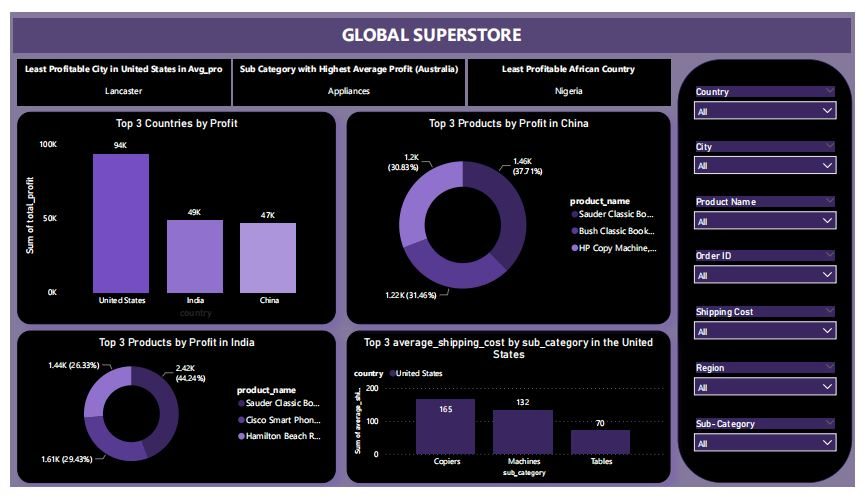

The dashboard page shown, as its layout file describes it:
{"tool":"powerbi","page":{"name":"Page 1","canvas":[1280,720],"ordinal":0},"visuals":[{"type":"shape","box":[1012.4,72.2,264.8,642.8],"z":0},{"type":"clusteredColumnChart","title":"Top 3 Countries by Profit","fields":{"Y":["Sum(Three countries that generated the highest total profit for Global 2014.total_profit)"],"Category":["Three countries that generated the highest total profit for Global 2014.country"]},"box":[9.9,151.5,482.8,322.8],"z":1000},{"type":"donutChart","title":"Top 3 Products by Profit in India","fields":{"Category":["Three Products with highest total profit for India.product_name","Three Products with highest total profit for India.country"],"Y":["Sum(Three Products with highest total profit for India.total_profit)"]},"box":[9.9,484.2,482.8,230.8],"z":2000},{"type":"columnChart","title":"Top 3 average_shipping_cost by sub_category in the United States","fields":{"Category":["The three subcategories with the highest average shipping cost in the United Sta.sub_category"],"Y":["Sum(The three subcategories with the highest average shipping cost in the United Sta.average_shipping_cost)"],"Series":["The three subcategories with the highest average shipping cost in the United Sta.country"]},"box":[509.7,484.2,491.3,230.8],"z":3000},{"type":"donutChart","title":"Top 3 Products by Profit in China","fields":{"Y":["Sum(Three Products with highest total profit for China.total_profit)"],"Category":["Three Products with highest total profit for China.product_name"]},"box":[509.7,151.5,491.3,322.8],"z":4000},{"type":"textbox","box":[4.2,9.9,1270.1,52.4],"z":5000},{"type":"textbox","box":[9.9,72.2,324.2,69.4],"z":6000},{"type":"textbox","box":[338.4,72.2,351.2,69.4],"z":7000},{"type":"textbox","box":[693.8,72.2,307.3,69.4],"z":8000},{"type":"slicer","fields":{"Values":["Orders.Country"]},"box":[1026.5,107.6,236.5,68],"z":9000},{"type":"slicer","fields":{"Values":["Orders.City"]},"box":[1026.5,191.2,236.5,68],"z":10000},{"type":"slicer","fields":{"Values":["Orders.Product Name"]},"box":[1026.5,274.7,236.5,68],"z":11000},{"type":"slicer","fields":{"Values":["Orders.Order ID"]},"box":[1026.5,356.8,236.5,68],"z":12000},{"type":"slicer","fields":{"Values":["Orders.Shipping Cost"]},"box":[1026.5,441.8,236.5,68],"z":13000},{"type":"slicer","fields":{"Values":["Orders.Region"]},"box":[1026.5,526.7,236.5,68],"z":14000},{"type":"slicer","fields":{"Values":["Orders.Sub-Category"]},"box":[1026.5,611.7,236.5,68],"z":15000}]}

Visuals, with their boxes in screenshot pixels (x1, y1, x2, y2), scaled from the page's 1280x720 canvas onto the 865x500 screenshot:
shape: region(684, 50, 863, 497)
"Top 3 Countries by Profit" clusteredColumnChart: region(7, 105, 333, 329)
"Top 3 Products by Profit in India" donutChart: region(7, 336, 333, 497)
"Top 3 average_shipping_cost by sub_category in the United States" columnChart: region(344, 336, 676, 497)
"Top 3 Products by Profit in China" donutChart: region(344, 105, 676, 329)
textbox: region(3, 7, 861, 43)
textbox: region(7, 50, 226, 98)
textbox: region(229, 50, 466, 98)
textbox: region(469, 50, 677, 98)
slicer - Orders.Country: region(694, 75, 854, 122)
slicer - Orders.City: region(694, 133, 854, 180)
slicer - Orders.Product Name: region(694, 191, 854, 238)
slicer - Orders.Order ID: region(694, 248, 854, 295)
slicer - Orders.Shipping Cost: region(694, 307, 854, 354)
slicer - Orders.Region: region(694, 366, 854, 413)
slicer - Orders.Sub-Category: region(694, 425, 854, 472)
